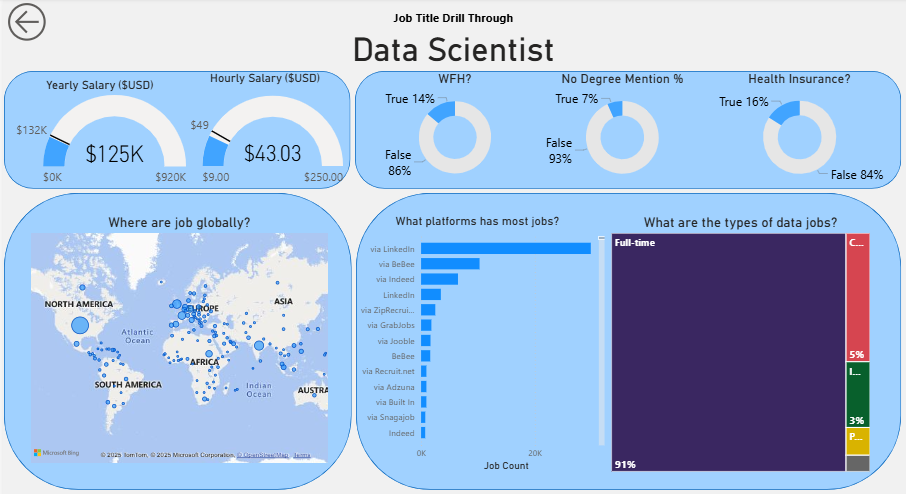

This screenshot's page, from the dashboard's own definition file:
{"tool":"powerbi","page":{"name":"Job Title Drill Through","canvas":[1280,720],"ordinal":1},"visuals":[{"type":"group","id":"g1","title":"Group 1","box":[2,103,1271.8,594.2],"z":500},{"type":"cardVisual","fields":{"Data":["Min(job_postings_flat.job_title_short)"]},"box":[361.7,0,554.9,103.1],"z":1000},{"type":"actionButton","box":[0,0,67.7,67.7],"z":2000},{"type":"gauge","title":"Yearly Salary ($USD)","fields":{"Y":["Median(job_postings_flat.salary_year_avg)"],"TargetValue":["Avg(job_postings_flat.salary_year_avg)1"],"MaxValue":["Max(job_postings_flat.salary_year_avg)"]},"box":[0,113.8,273.6,161.3],"z":3000},{"type":"donutChart","title":"WFH?","fields":{"Category":["job_postings_flat.job_work_from_home"],"Y":["CountNonNull(job_postings_flat.job_title_short)"]},"box":[523.8,103.1,232.4,167],"z":4000},{"type":"donutChart","title":"No Degree Mention %","fields":{"Category":["job_postings_flat.job_no_degree_mention"],"Y":["CountNonNull(job_postings_flat.job_title_short)"]},"box":[756,103.7,244.8,167],"z":5000},{"type":"donutChart","title":"Health Insurance?","fields":{"Category":["job_postings_flat.job_health_insurance"],"Y":["CountNonNull(job_postings_flat.job_title_short)"]},"box":[1000.1,103.1,257,167],"z":6000},{"type":"gauge","title":"Hourly Salary ($USD)","fields":{"Y":["Median(job_postings_flat.salary_hour_avg)"],"MinValue":["Min(job_postings_flat.salary_hour_avg)"],"MaxValue":["Max(job_postings_flat.salary_hour_avg)"],"TargetValue":["Avg(job_postings_flat.salary_hour_avg)1"]},"box":[254.9,103.7,231.8,181.4],"z":7000},{"type":"map","title":"Where are job globally?","fields":{"Category":["job_postings_flat.job_country"],"Size":["CountNonNull(job_postings_flat.job_title_short)"]},"box":[34.4,306.1,432.1,358.5],"z":8000},{"type":"treemap","title":"What are the types of data jobs?","fields":{"Group":["job_postings_flat.job_schedule_type"],"Values":["CountNonNull(job_postings_flat.job_schedule_type)"]},"box":[857.7,306.1,376.5,369.9],"z":9000},{"type":"barChart","title":"What platforms has most jobs?","fields":{"Category":["job_postings_flat.job_via"],"Y":["CountNonNull(job_postings_flat.job_title_short)"]},"box":[498.9,305.7,357.8,369.6],"z":10000},{"type":"shape","box":[2,103,491,167],"z":15125,"group":"g1"},{"type":"shape","box":[499.6,103,774.2,167],"z":15250,"group":"g1"},{"type":"shape","box":[2.6,276.5,492.7,420.7],"z":15500,"group":"g1"},{"type":"shape","box":[500.9,276.5,772.6,420.7],"z":16250,"group":"g1"}]}

Visuals, with their boxes on the page's 1280x720 design canvas (x1, y1, x2, y2). These are canvas units, not pixel positions in the 906x494 screenshot, which may show the page scaled, cropped or inside an application window:
"Group 1" group: [x1=2, y1=103, x2=1274, y2=697]
cardVisual - Min(job_postings_flat.job_title_short): [x1=362, y1=0, x2=917, y2=103]
actionButton: [x1=0, y1=0, x2=68, y2=68]
"Yearly Salary ($USD)" gauge: [x1=0, y1=114, x2=274, y2=275]
"WFH?" donutChart: [x1=524, y1=103, x2=756, y2=270]
"No Degree Mention %" donutChart: [x1=756, y1=104, x2=1001, y2=271]
"Health Insurance?" donutChart: [x1=1000, y1=103, x2=1257, y2=270]
"Hourly Salary ($USD)" gauge: [x1=255, y1=104, x2=487, y2=285]
"Where are job globally?" map: [x1=34, y1=306, x2=466, y2=665]
"What are the types of data jobs?" treemap: [x1=858, y1=306, x2=1234, y2=676]
"What platforms has most jobs?" barChart: [x1=499, y1=306, x2=857, y2=675]
shape: [x1=2, y1=103, x2=493, y2=270]
shape: [x1=500, y1=103, x2=1274, y2=270]
shape: [x1=3, y1=276, x2=495, y2=697]
shape: [x1=501, y1=276, x2=1274, y2=697]
